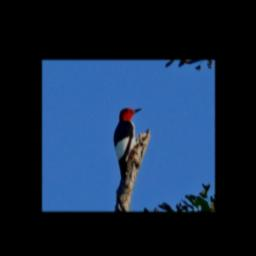Woodpecker: (107, 102, 146, 195)
